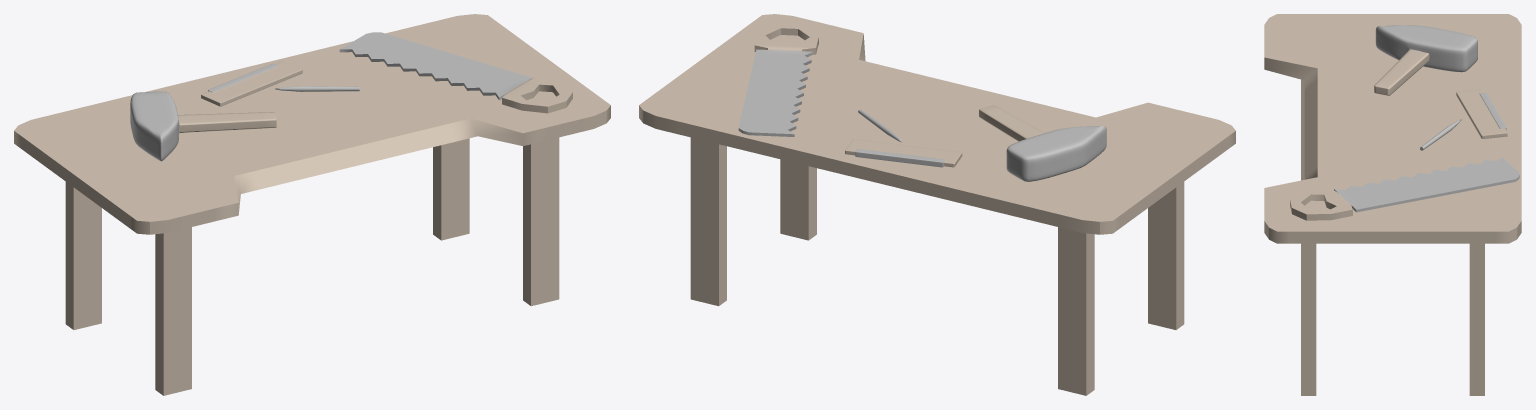
Rendered from crafting_table.fbx.
3 renders of one model, left to right at view 1: azimuth 30°, elevation 25°; view 2: azimuth 150°, elevation 25°; view 3: azimuth 270°, elevation 25°, orthographic. The views are drawn at different scales.
Parts seen in each view (by area): view 1: pCone3; view 2: pCone3; view 3: pCone3.
Boxes of the visible parts, x1,y1,x2,y2 form: pCone3: (14,14,610,395); pCone3: (639,14,1235,395); pCone3: (1264,14,1521,395).
Size of the model in its own units: 192 by 85 by 95.9.
